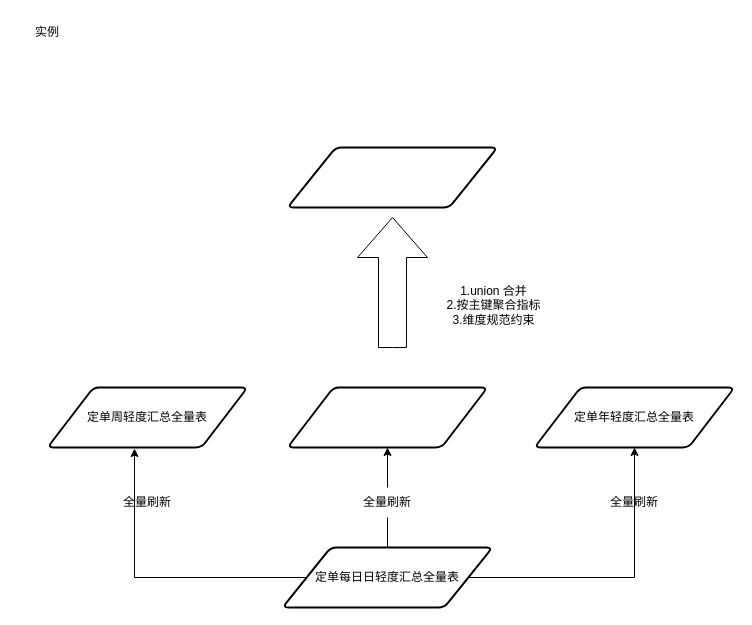
This 752x625 diagram has some shape labels left out. Here are the shapes that lost their labels. From the top down, the box of each, then its label:
(286, 146, 498, 208): 定单全量宽表
(286, 386, 488, 448): 定单月轻度汇总全量表
